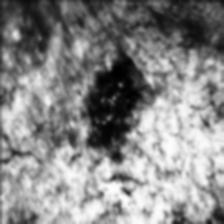Potentially Malignant Skin Tumors: (84, 60, 142, 140)
